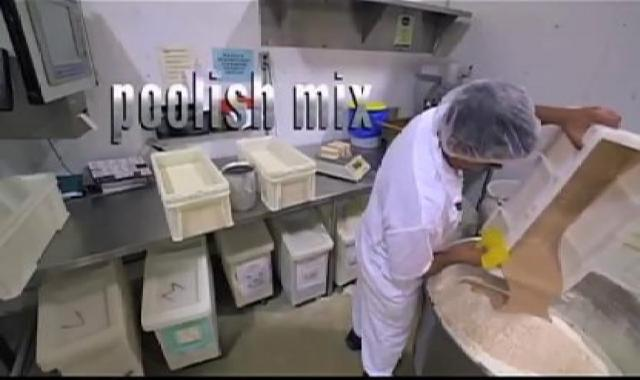hairnet: (415, 82, 548, 168)
